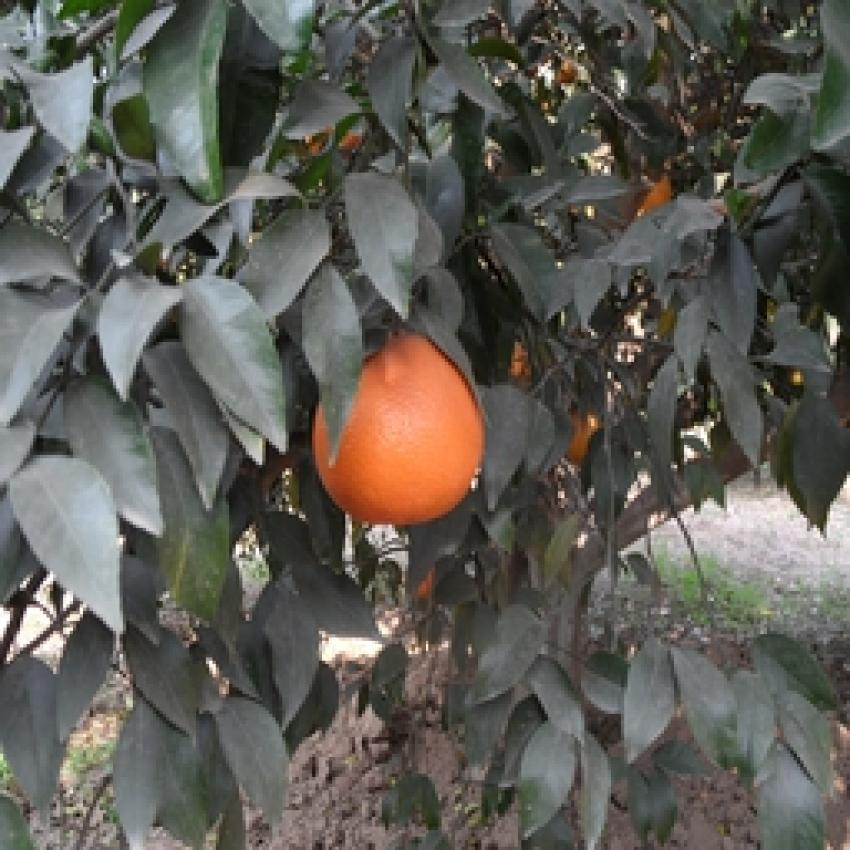Mal estado: (305, 318, 490, 534)
